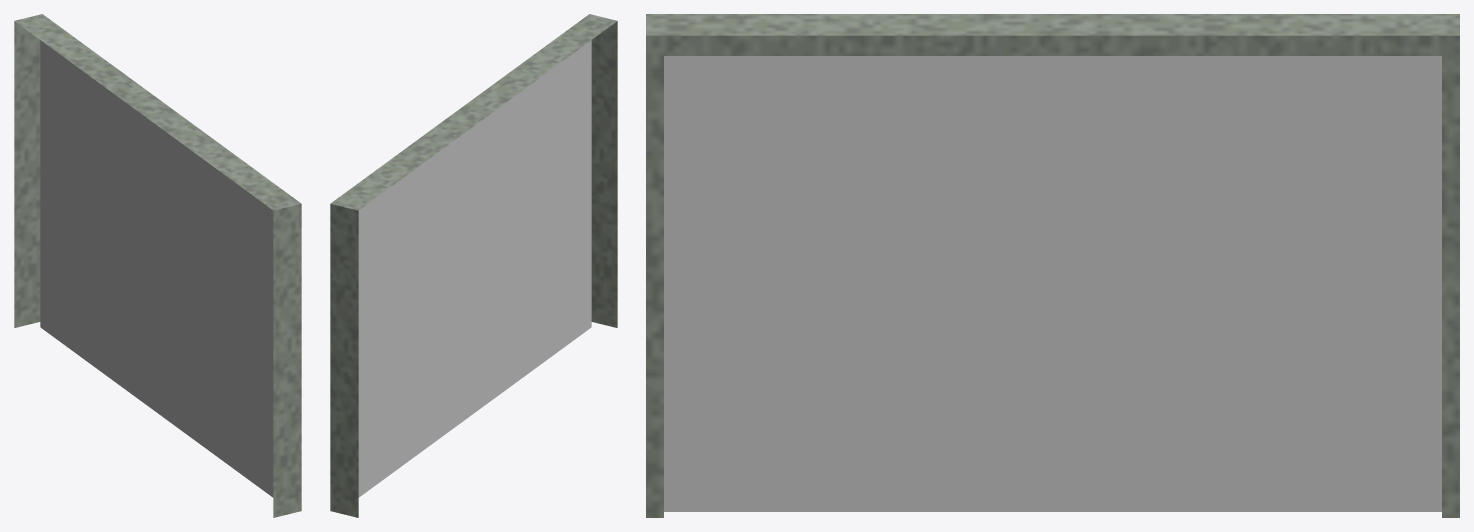
The model's file is BGN_STORE FRONT CHINA.fbx.
3 renders of one model, left to right at view 1: azimuth 30°, elevation 25°; view 2: azimuth 150°, elevation 25°; view 3: azimuth 270°, elevation 25°, orthographic. The views are drawn at different scales.
Parts seen in each view (by area): view 1: BGN_STORE_FRONT_CHINA; view 2: BGN_STORE_FRONT_CHINA; view 3: BGN_STORE_FRONT_CHINA.
Boxes of the visible parts, x1,y1,x2,y2 form: BGN_STORE_FRONT_CHINA: (14, 14, 301, 517); BGN_STORE_FRONT_CHINA: (330, 14, 617, 517); BGN_STORE_FRONT_CHINA: (646, 14, 1459, 517).
Bounding box in the file's own units: 35.18 × 365 × 559.
